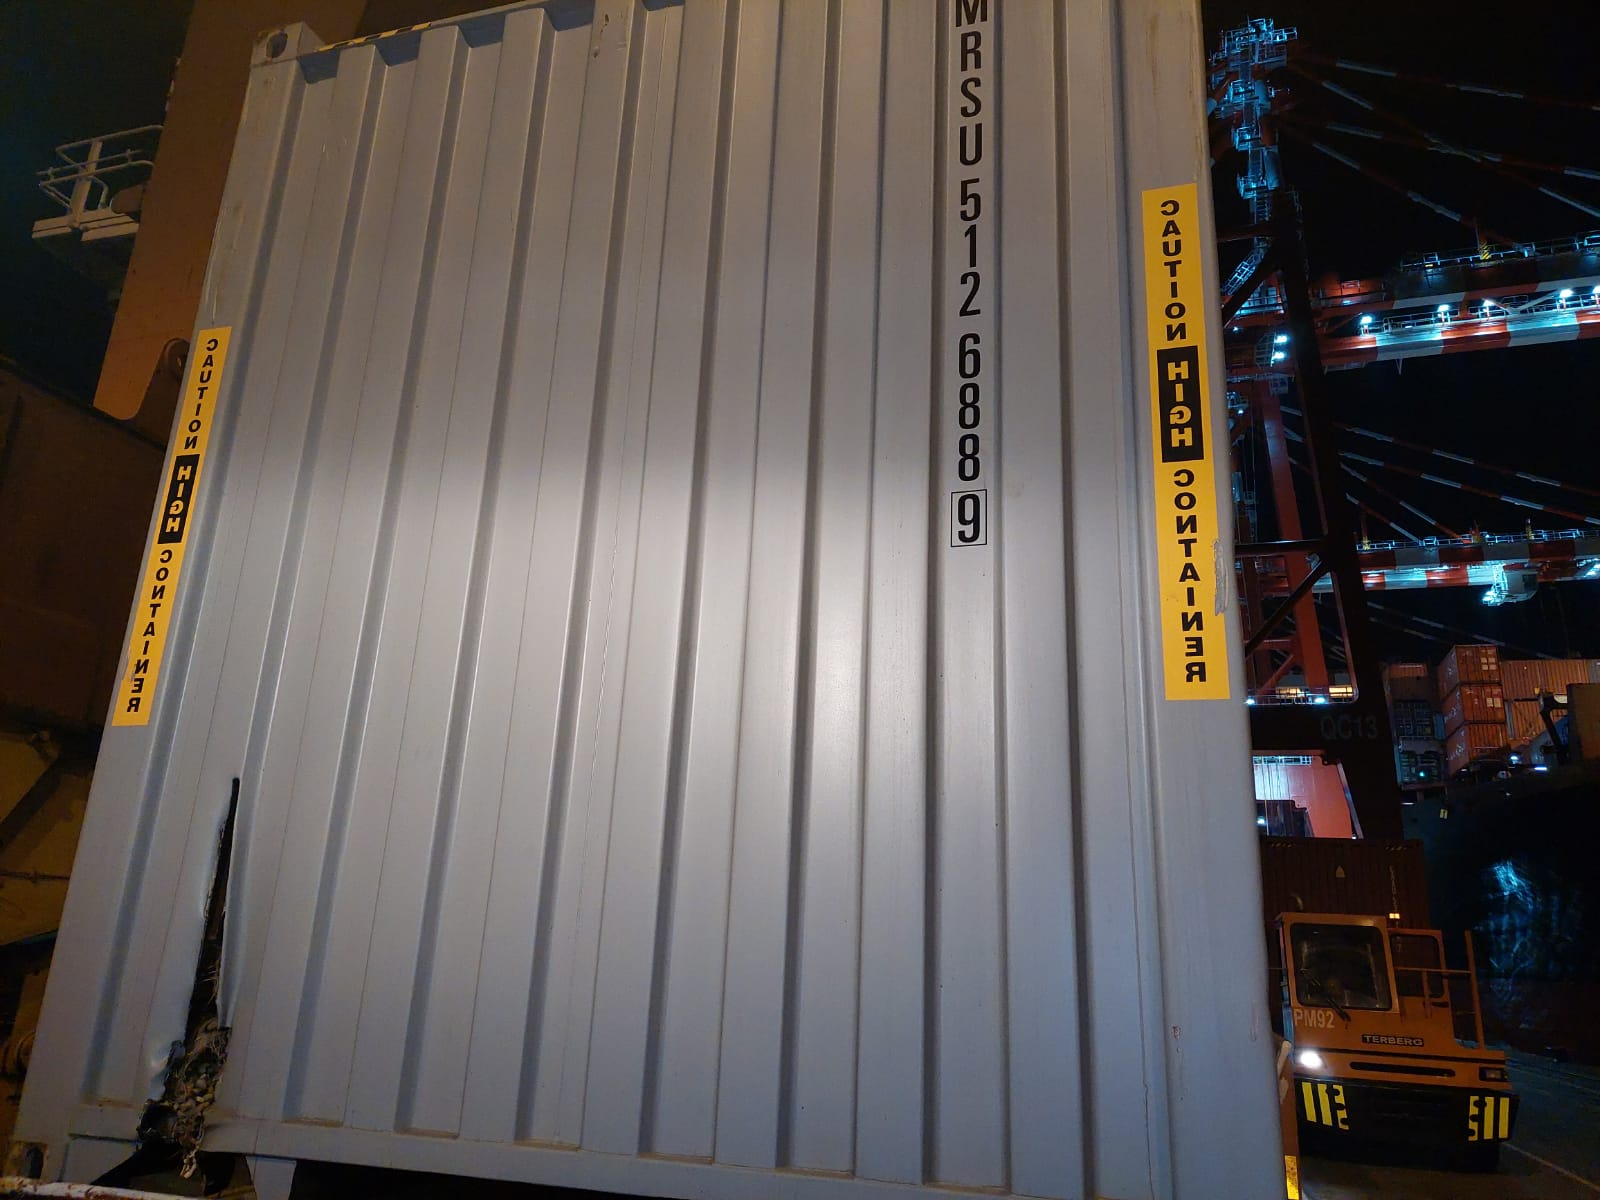cut: (118, 747, 290, 1138)
